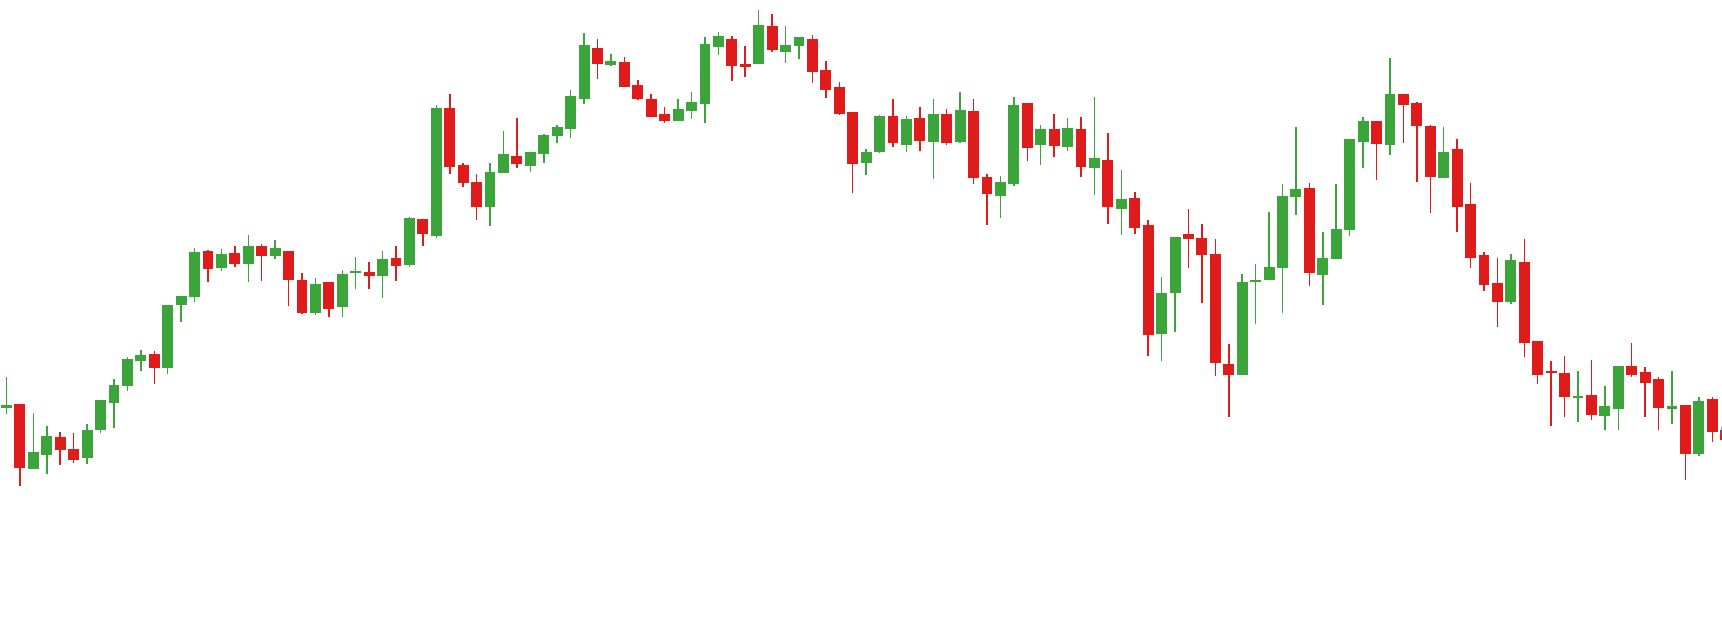buy: (1139, 258, 1251, 416)
sell: (697, 13, 779, 67)
